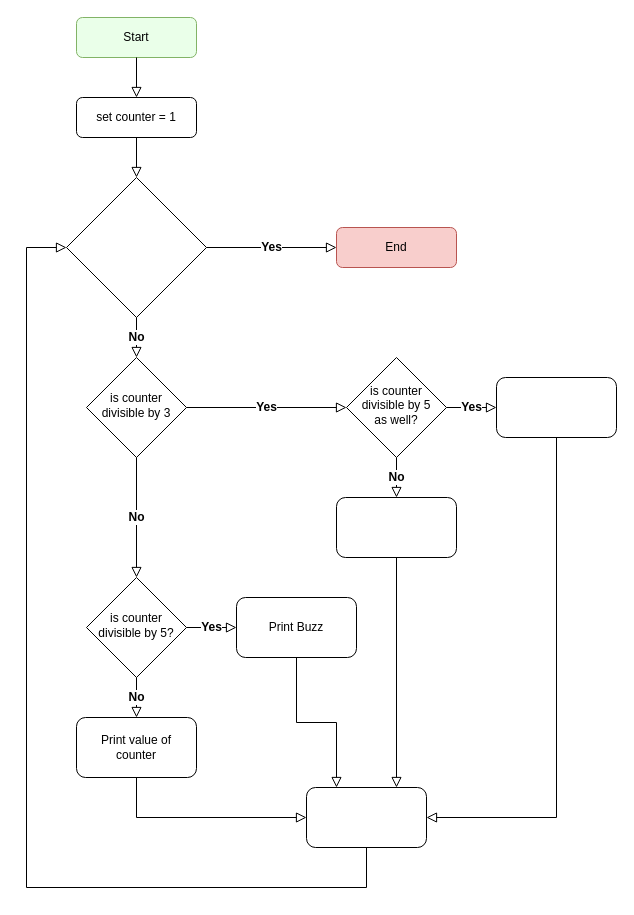
This 634x915 diagram has some shape labels left out. Here are the shapes that lost their labels. From the top down, the centre of each, then its label:
At [136,247]: "Has the loop finished (i.e. is counter >100?)".
At [556,407]: "Print FizzBuzz".
At [396,527]: "Print Fizz".
At [366,817]: "Increment value of counter (counter = counter+1)".
